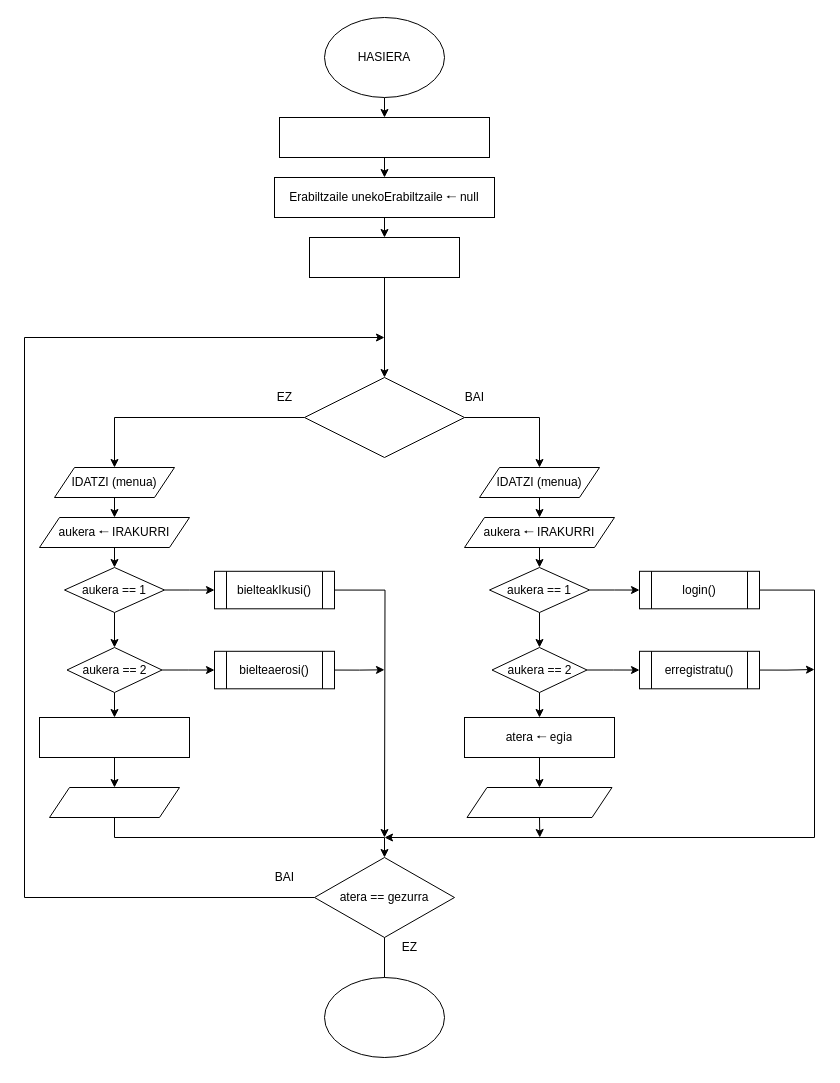
The diagram is 840 pixels wide and 1083 high, and some of its shapes have lost their labels. The shapes that lost their labels are listed below. From the top down, each one's centre as x and y in pixels, then its label:
point (384, 137): OSOA aukera 🠐 -1
point (384, 257): LOGIKOA atera 🠐 gezurra
point (384, 417): unekoErabiltzaile == null
point (114, 737): unekoErabiltzaile 🠐 null
point (114, 802): IDATZI ("Logout")
point (539, 802): IDATZI ("Ateratzen")
point (384, 1017): AMAIERA
